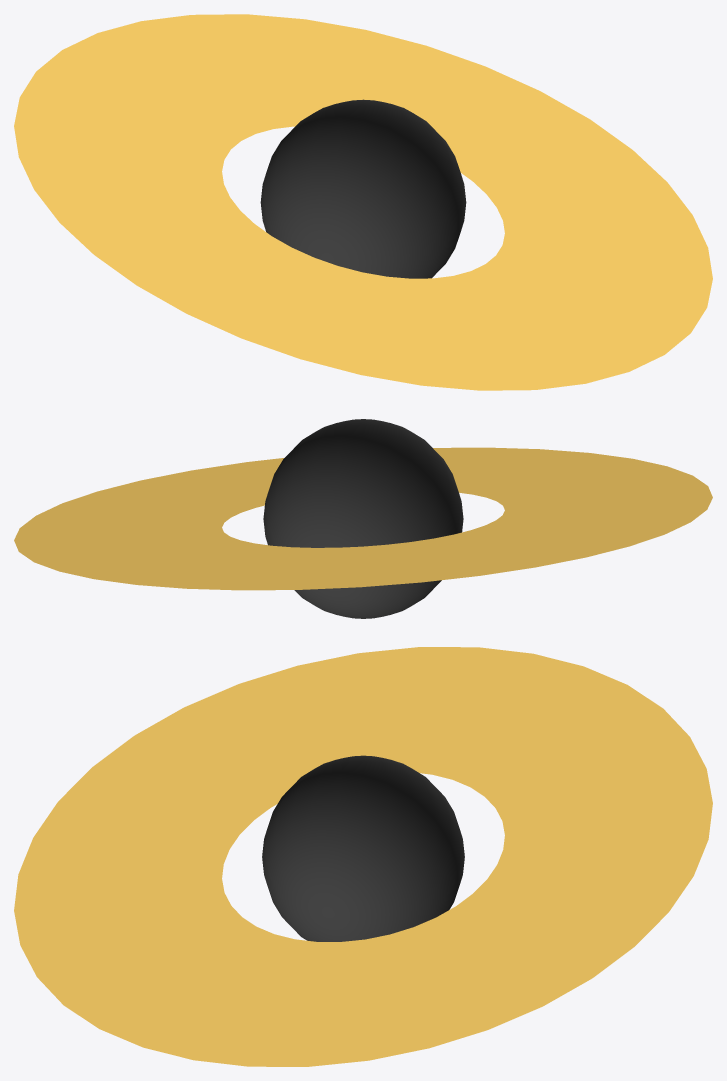
File: black_hole.glb
The picture shows the model from 3 angles, top to bottom: view 1: azimuth 30°, elevation 25°; view 2: azimuth 150°, elevation 25°; view 3: azimuth 270°, elevation 25°; orthographic projection. The views are drawn at different scales.
Parts seen in each view (by area): view 1: accretion_node, horizon_node; view 2: accretion_node, horizon_node; view 3: accretion_node, horizon_node.
Boxes of the visible parts, x1,y1,x2,y2 form: accretion_node: [14, 14, 712, 390]; horizon_node: [260, 99, 466, 278]; accretion_node: [14, 447, 712, 590]; horizon_node: [263, 419, 463, 618]; accretion_node: [14, 647, 712, 1066]; horizon_node: [262, 755, 464, 941].
Size of the model in its own units: 4.14 by 1.2 by 4.14.
